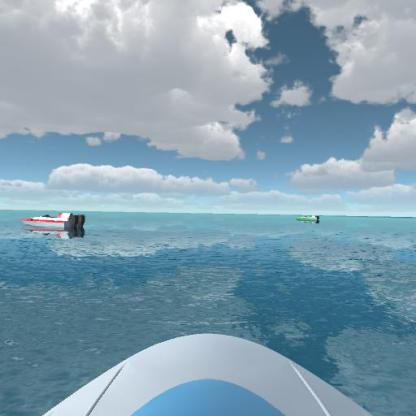usv0: (295, 211, 321, 227)
usv3: (18, 209, 87, 240)
